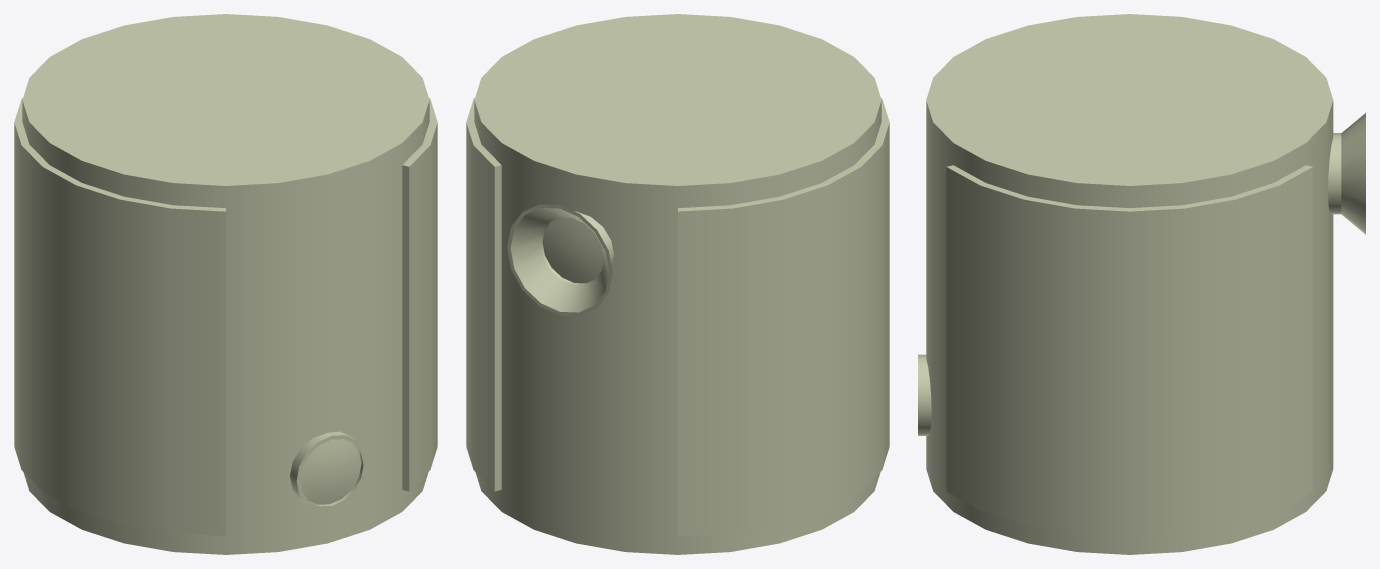
The model's file is tantares_orbital_module_s1_4_interior.obj.
3 renders of one model, left to right at view 1: azimuth 30°, elevation 25°; view 2: azimuth 150°, elevation 25°; view 3: azimuth 270°, elevation 25°, orthographic.
Visible parts, largest first — view 1: interior, mask; view 2: interior, mask; view 3: mask, interior.
Boxes of the visible parts, left/top/right/bottom form: interior: left=22, top=14, right=429, bottom=554; mask: left=14, top=98, right=437, bottom=536; interior: left=474, top=14, right=881, bottom=554; mask: left=466, top=98, right=889, bottom=536; mask: left=918, top=113, right=1365, bottom=536; interior: left=926, top=14, right=1333, bottom=554.
Bounding box in the file's own units: 1.3 × 1.25 × 1.38.
